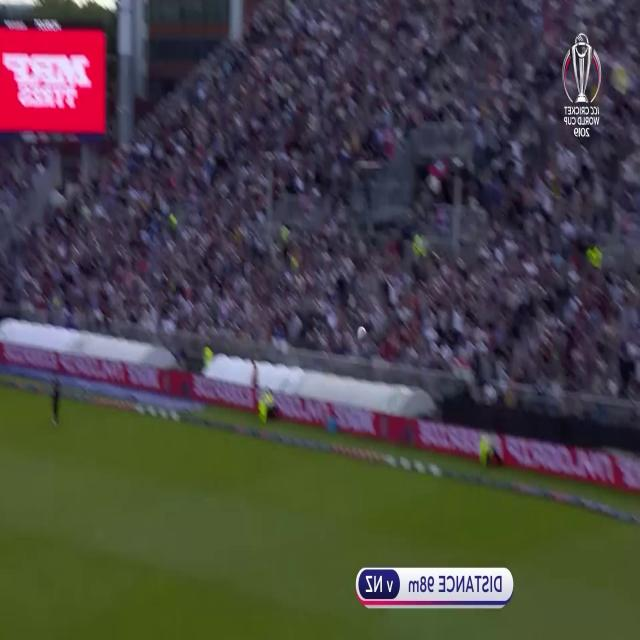ball: (357, 324, 368, 344)
